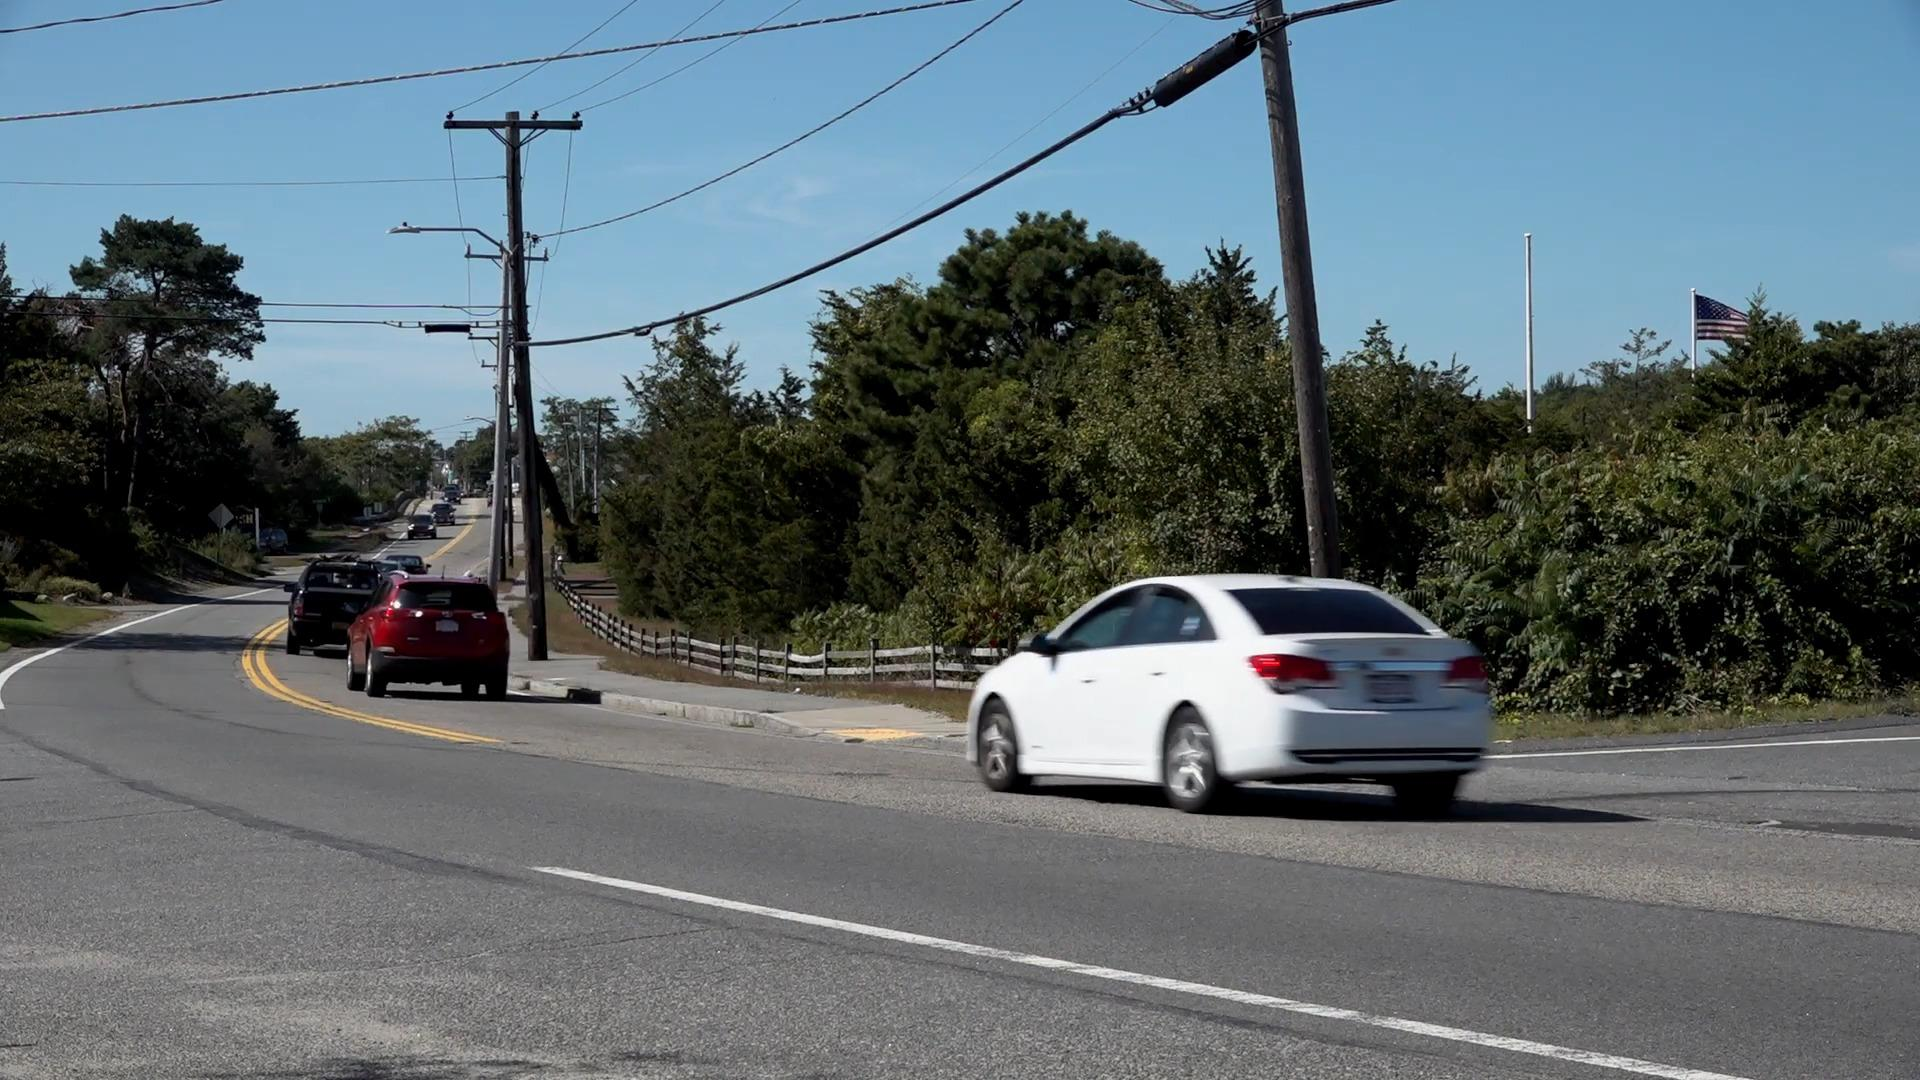sedans: (965, 572, 1491, 820)
suv: (345, 570, 512, 699)
